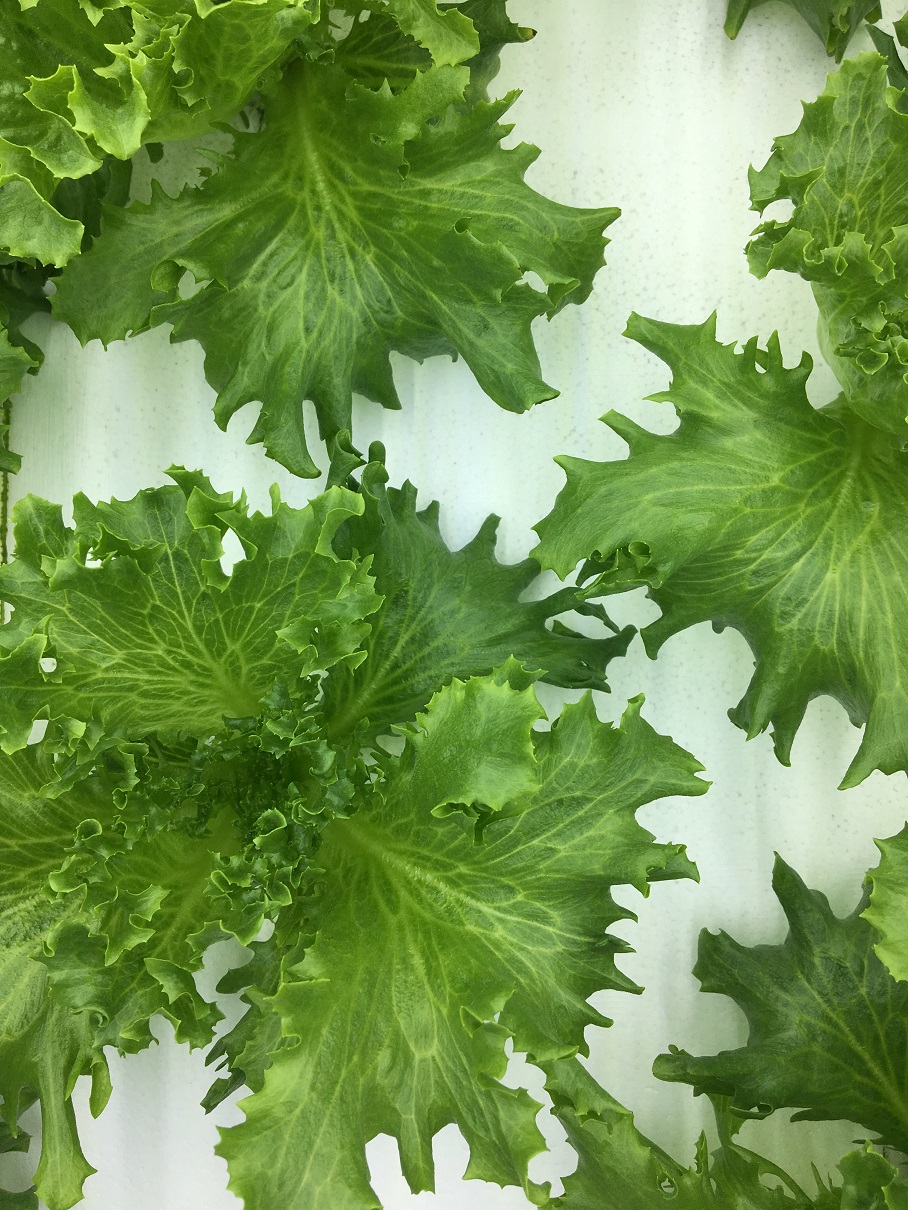tipburn: (523, 18, 548, 49)
